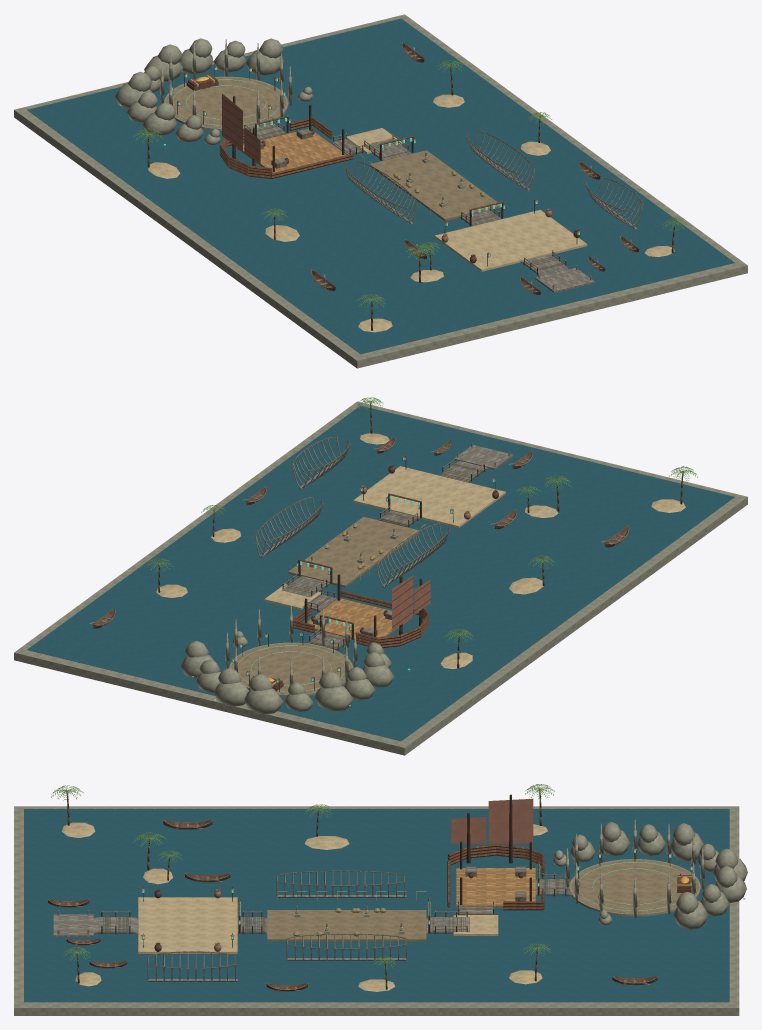
Rendered from dg-samut.glb.
3 views of the same model, one above another, from view 1: azimuth 30°, elevation 25°; view 2: azimuth 150°, elevation 25°; view 3: azimuth 270°, elevation 25° (orthographic). The views are drawn at different scales.
Parts seen in each view (by area): view 1: Water surface | water_sea, Dungeon foundation | rock, Cave rock walls | rock, Courtyard flagstones | sand, Under-house packed earth | sand_wet, Cave wet sand floor | sand_wet, Shipyard hull ribs | wood_drift, Dark islets | sand, Kitchen floor | plank, Bridge / separate deck boards | wood_drift, Junk hull planks | wood_red, Junk battened sails | cloth_faded (+6 smaller); view 2: Water surface | water_sea, Dungeon foundation | rock, Cave rock walls | rock, Courtyard flagstones | sand, Under-house packed earth | sand_wet, Cave wet sand floor | sand_wet, Shipyard hull ribs | wood_drift, Dark islets | sand, Kitchen floor | plank, Bridge / separate deck boards | wood_drift, Junk hull planks | wood_red, Junk battened sails | cloth_faded (+7 smaller); view 3: Water surface | water_sea, Dungeon foundation | rock, Cave rock walls | rock, Courtyard flagstones | sand, Under-house packed earth | sand_wet, Cave wet sand floor | sand_wet, Shipyard hull ribs | wood_drift, Junk battened sails | cloth_faded, Kitchen floor | plank, Dark islets | sand, Bridge / separate deck boards | wood_drift, Boat / curved timber hull | wood_red (+13 smaller).
Boxes of the visible parts, x1,y1,x2,y2 form: Water surface | water_sea: [27, 18, 734, 354]; Dungeon foundation | rock: [14, 14, 747, 368]; Cave rock walls | rock: [114, 38, 312, 144]; Courtyard flagstones | sand: [434, 209, 587, 271]; Under-house packed earth | sand_wet: [369, 150, 500, 220]; Cave wet sand floor | sand_wet: [166, 77, 286, 127]; Shipyard hull ribs | wood_drift: [344, 131, 643, 229]; Dark islets | sand: [148, 94, 674, 332]; Kitchen floor | plank: [236, 128, 346, 173]; Bridge / separate deck boards | wood_drift: [248, 123, 568, 276]; Junk hull planks | wood_red: [219, 117, 353, 178]; Junk battened sails | cloth_faded: [222, 93, 260, 163]; Water surface | water_sea: [27, 405, 734, 741]; Dungeon foundation | rock: [14, 401, 747, 755]; Cave rock walls | rock: [181, 631, 394, 714]; Courtyard flagstones | sand: [353, 466, 505, 527]; Under-house packed earth | sand_wet: [288, 516, 420, 587]; Cave wet sand floor | sand_wet: [231, 643, 351, 694]; Shipyard hull ribs | wood_drift: [255, 437, 449, 587]; Dark islets | sand: [156, 433, 685, 668]; Kitchen floor | plank: [307, 598, 412, 639]; Bridge / separate deck boards | wood_drift: [282, 461, 488, 647]; Junk hull planks | wood_red: [292, 590, 429, 647]; Junk battened sails | cloth_faded: [392, 575, 430, 630]; Water surface | water_sea: [24, 809, 729, 1002]; Dungeon foundation | rock: [14, 806, 739, 1015]; Cave rock walls | rock: [553, 822, 747, 929]; Courtyard flagstones | sand: [138, 897, 237, 953]; Under-house packed earth | sand_wet: [267, 910, 426, 941]; Cave wet sand floor | sand_wet: [571, 859, 698, 913]; Shipyard hull ribs | wood_drift: [147, 871, 406, 981]; Junk battened sails | cloth_faded: [451, 798, 533, 843]; Kitchen floor | plank: [456, 868, 535, 907]; Dark islets | sand: [61, 822, 547, 991]; Bridge / separate deck boards | wood_drift: [93, 879, 571, 933]; Boat / curved timber hull | wood_red: [48, 819, 657, 991].
Size of the model in its own units: 96 by 17.1 by 148.
Materials: 25 (25 with a texture image).
